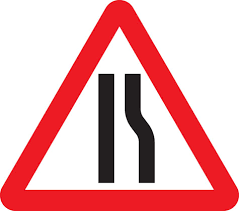narrow-road: (22, 20, 217, 211)
